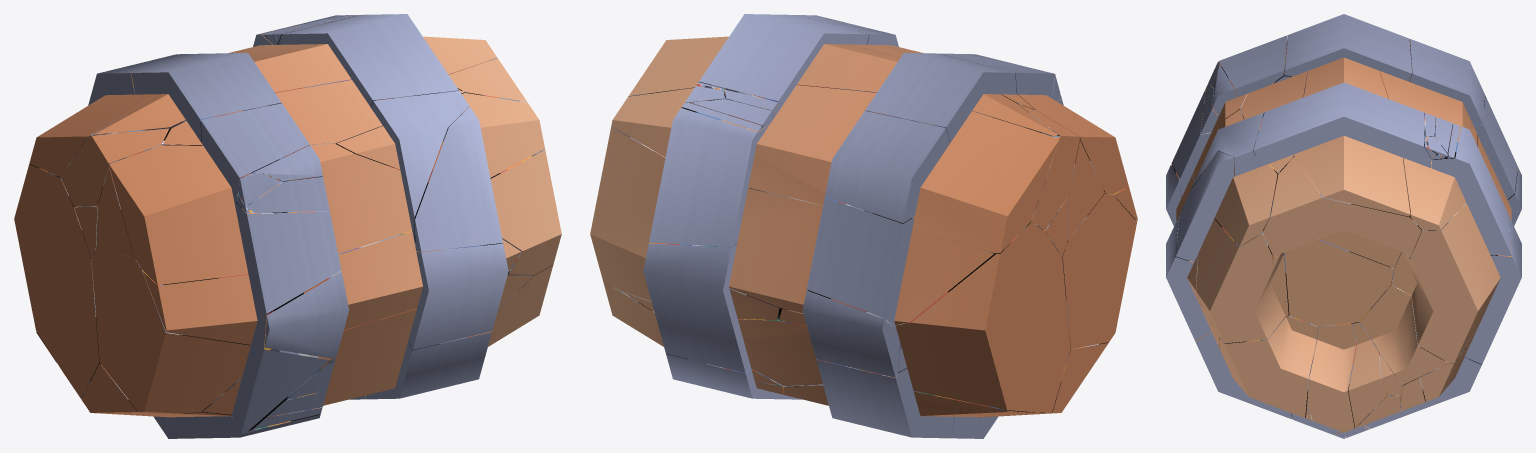
The model's file is barrelExplode.fbx.
3 renders of one model, left to right at view 1: azimuth 30°, elevation 25°; view 2: azimuth 150°, elevation 25°; view 3: azimuth 270°, elevation 25°, orthographic. The views are drawn at different scales.
Visible parts, largest first — view 1: barrel_cell.008, barrel_cell.025, barrel.002_cell.002, barrel_cell.016, barrel_cell.024, barrel.001_cell.003, barrel.001_cell.006, barrel_cell.009, barrel.001_cell.011, barrel_cell.004, barrel.002_cell.006, barrel_cell.015 (+19 smaller); view 2: barrel_cell.020, barrel_cell.016, barrel_cell.011, barrel.001_cell.002, barrel.001_cell.005, barrel_cell.023, barrel.002_cell.005, barrel.002_cell.001, barrel.001_cell.003, barrel_cell.004, barrel_cell.025, barrel.002_cell.006 (+18 smaller); view 3: barrel_cell.023, barrel.001_cell.003, barrel_cell.006, barrel_cell.009, barrel_cell.004, barrel_cell.012, barrel_cell.027, barrel.002_cell.006, barrel_cell.020, barrel_cell.001_cell.003, barrel_cell.007, barrel.001_cell.002 (+25 smaller).
Part boxes in pixels (x1=…): barrel_cell.008: x1=109, y1=143, x2=412, y2=285; barrel_cell.025: x1=91, y1=251, x2=250, y2=413; barrel.002_cell.002: x1=231, y1=201, x2=341, y2=433; barrel_cell.016: x1=14, y1=164, x2=99, y2=398; barrel_cell.024: x1=142, y1=231, x2=521, y2=344; barrel.001_cell.003: x1=278, y1=14, x2=458, y2=107; barrel.001_cell.006: x1=415, y1=106, x2=502, y2=251; barrel_cell.009: x1=96, y1=149, x2=561, y2=275; barrel.001_cell.011: x1=408, y1=243, x2=508, y2=349; barrel_cell.004: x1=93, y1=36, x2=496, y2=134; barrel.002_cell.006: x1=131, y1=53, x2=281, y2=145; barrel_cell.015: x1=203, y1=275, x2=533, y2=414; barrel_cell.020: x1=611, y1=85, x2=1058, y2=253; barrel_cell.016: x1=895, y1=221, x2=1070, y2=412; barrel_cell.011: x1=729, y1=188, x2=993, y2=324; barrel.001_cell.002: x1=649, y1=107, x2=768, y2=246; barrel.001_cell.005: x1=643, y1=242, x2=750, y2=373; barrel_cell.023: x1=590, y1=126, x2=788, y2=320; barrel.002_cell.005: x1=825, y1=111, x2=949, y2=223; barrel.002_cell.001: x1=806, y1=197, x2=914, y2=329; barrel.001_cell.003: x1=699, y1=14, x2=869, y2=117; barrel_cell.004: x1=628, y1=36, x2=1057, y2=136; barrel_cell.025: x1=1062, y1=193, x2=1136, y2=348; barrel.002_cell.006: x1=865, y1=53, x2=1016, y2=142; barrel_cell.023: x1=1392, y1=203, x2=1500, y2=363; barrel.001_cell.003: x1=1253, y1=82, x2=1431, y2=167; barrel_cell.006: x1=1262, y1=86, x2=1421, y2=268; barrel_cell.009: x1=1196, y1=218, x2=1289, y2=343; barrel_cell.004: x1=1294, y1=57, x2=1410, y2=216; barrel_cell.012: x1=1273, y1=239, x2=1393, y2=326; barrel_cell.027: x1=1219, y1=315, x2=1318, y2=417; barrel.002_cell.006: x1=1284, y1=14, x2=1412, y2=81; barrel_cell.020: x1=1379, y1=71, x2=1477, y2=230; barrel_cell.001_cell.003: x1=1307, y1=323, x2=1356, y2=432; barrel_cell.007: x1=1359, y1=277, x2=1478, y2=385; barrel.001_cell.002: x1=1431, y1=126, x2=1511, y2=256.
Bounding box in the file's own units: 151 × 134 × 134.
